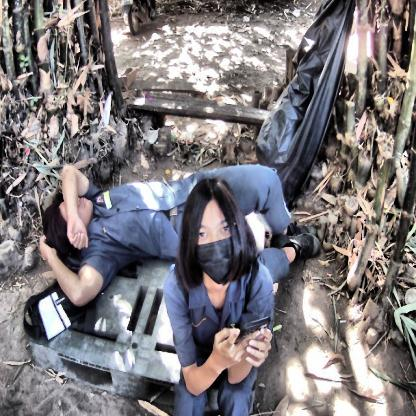not_wear: (190, 180, 245, 287), (43, 197, 96, 245)
